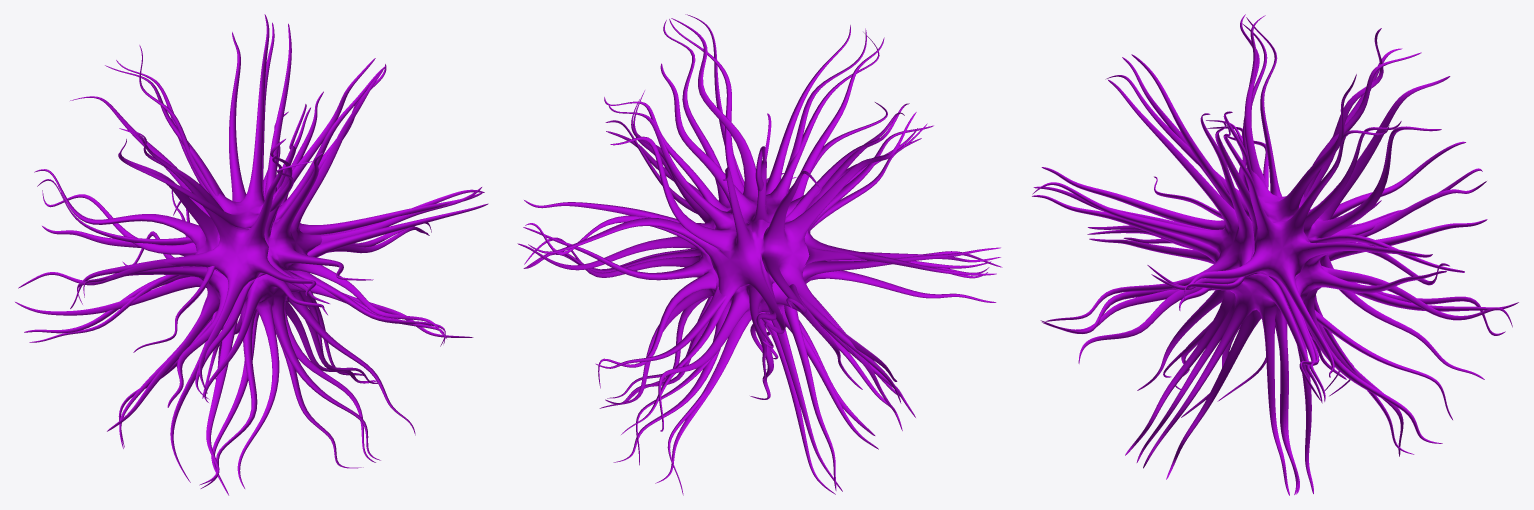
File: tentacles5.fbx
The picture shows the model from 3 angles, left to right: view 1: azimuth 30°, elevation 25°; view 2: azimuth 150°, elevation 25°; view 3: azimuth 270°, elevation 25°; orthographic projection. The views are drawn at different scales.
Parts seen in each view (by area): view 1: organic_09_quads_:Mesh; view 2: organic_09_quads_:Mesh; view 3: organic_09_quads_:Mesh.
Boxes of the visible parts, bbox=[...] form: organic_09_quads_:Mesh: bbox=[15, 14, 488, 495]; organic_09_quads_:Mesh: bbox=[517, 14, 1002, 495]; organic_09_quads_:Mesh: bbox=[1032, 14, 1518, 495].
Size of the model in its own units: 32.77 by 29.85 by 32.57.
